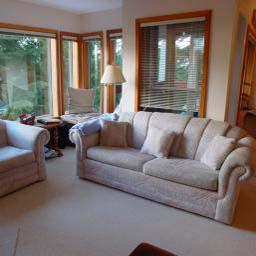Ventana: (139, 22, 206, 115), (4, 30, 56, 116), (84, 36, 103, 115), (60, 38, 78, 112), (111, 37, 122, 110)
